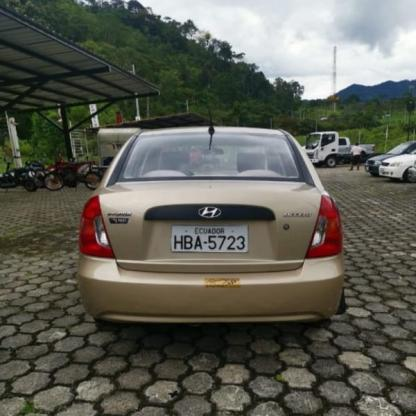Placa: (171, 224, 249, 258)
